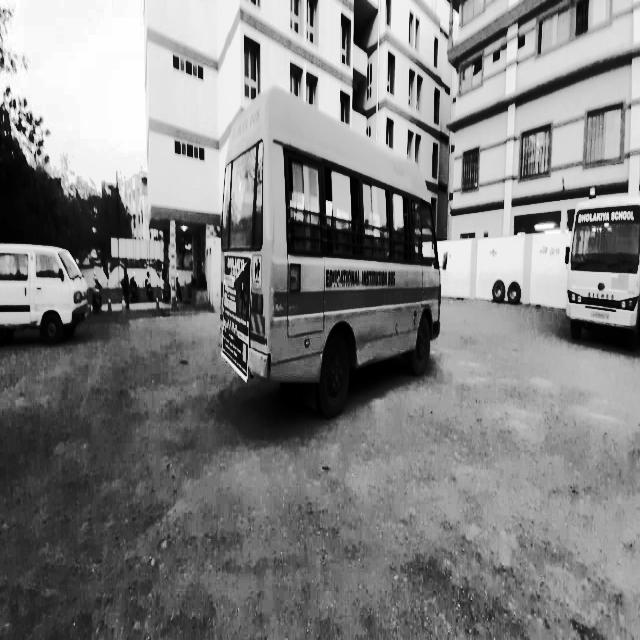Bus: (212, 69, 458, 442), (564, 174, 640, 378)
